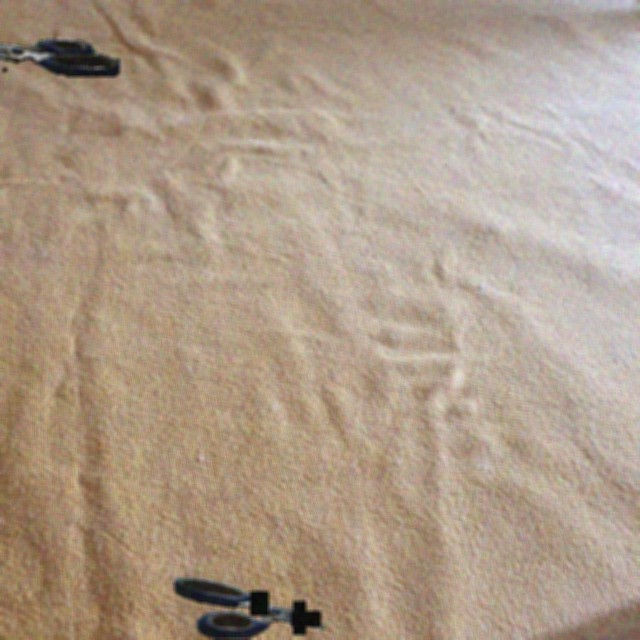scissors: (174, 577, 326, 639), (0, 38, 120, 77)
